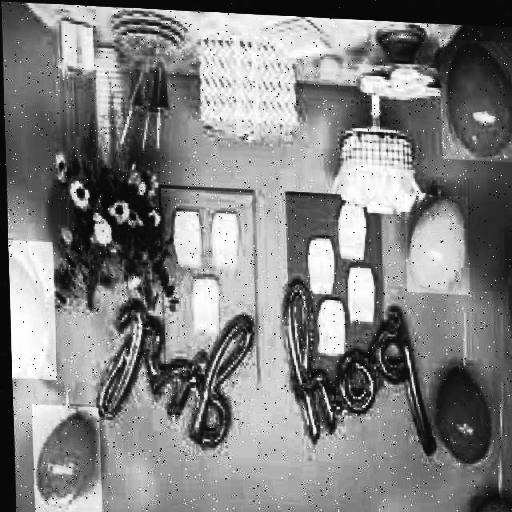balloon: (437, 33, 512, 156), (29, 403, 98, 512), (402, 188, 468, 290), (6, 240, 54, 378), (429, 358, 492, 460), (466, 489, 511, 512), (505, 260, 512, 357)
